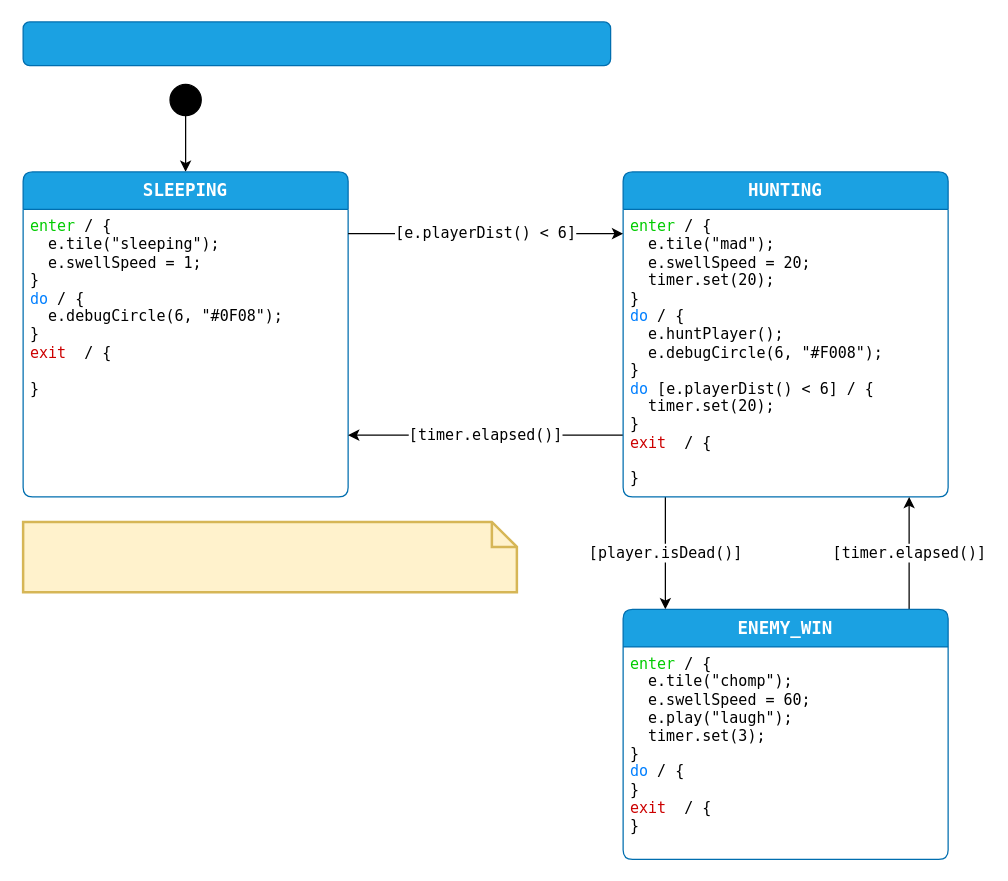
Image size: 1008x881. Some labels were removed from this diagram. Here are the shapes that lost their labels. From the top down, the centre of each, then its label:
[316,43]: $STATEMACHINE : {fileName}
[269,556]: The `timer` variable is defined on the `config` page of this diagram.
